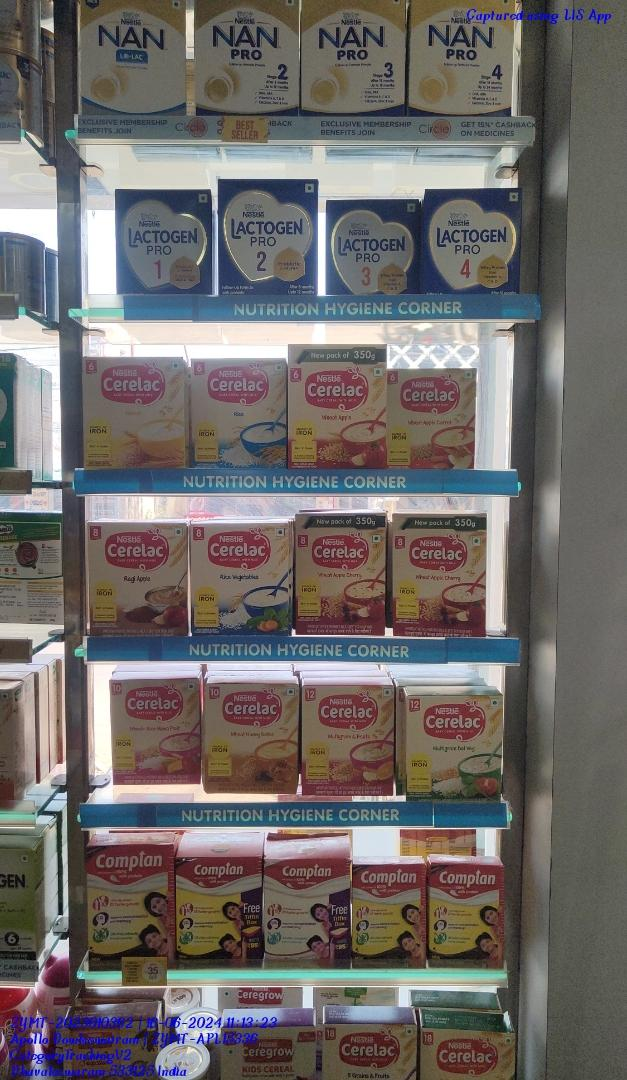COMPLAN_CHOCOLATE_200_GMS_PACK: (429, 863, 506, 970), (353, 864, 425, 968)
